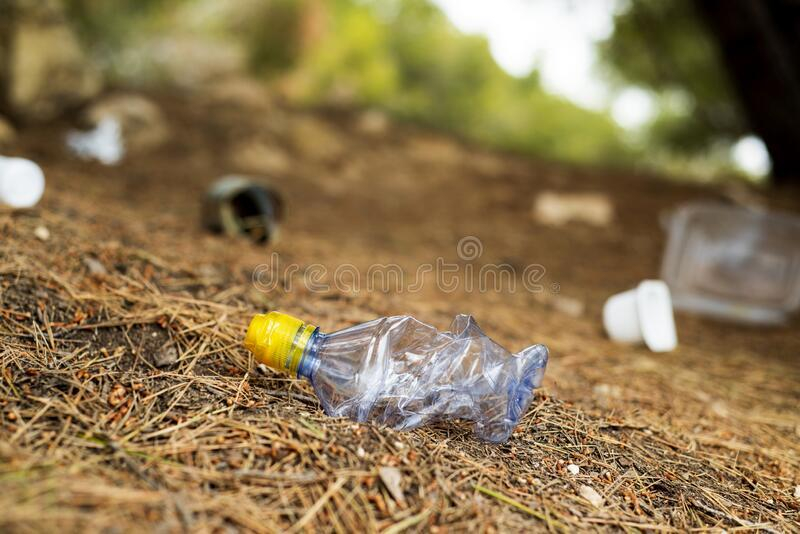Plastic: (192, 279, 610, 469)
